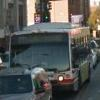buses: (9, 22, 91, 94)
